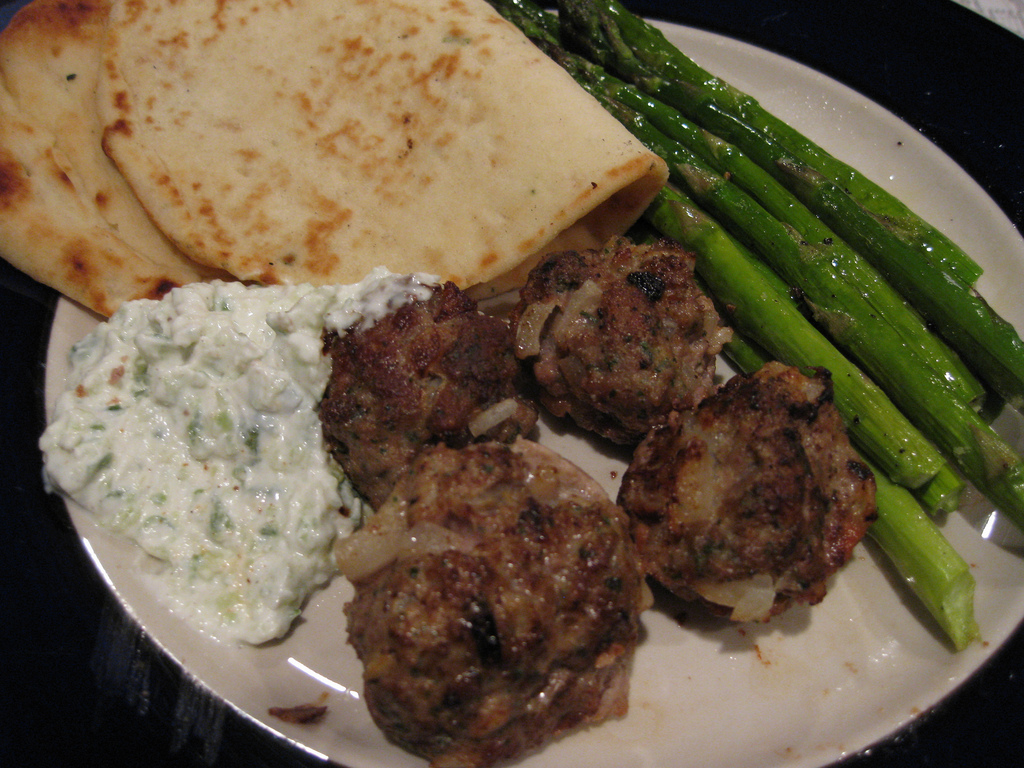meatballs: (344, 478, 643, 736), (655, 367, 849, 624), (314, 308, 518, 466), (514, 239, 703, 405)
slice of bread: (1, 1, 639, 277)
